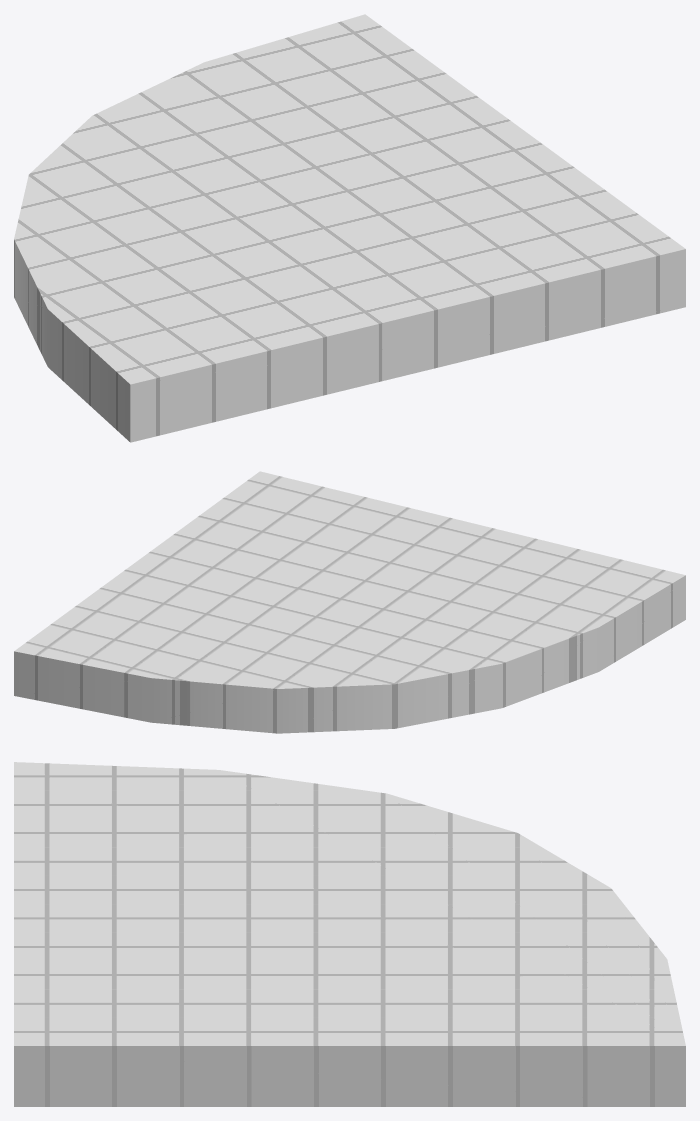
The model's file is CurvedFloor.fbx.
3 renders of one model, top to bottom at view 1: azimuth 30°, elevation 25°; view 2: azimuth 150°, elevation 25°; view 3: azimuth 270°, elevation 25°, orthographic. The views are drawn at different scales.
Parts seen in each view (by area): view 1: Curved Floor001; view 2: Curved Floor001; view 3: Curved Floor001.
Part boxes in pixels (x1,y1,x2,y2): Curved Floor001: (14,14,685,442); Curved Floor001: (14,471,685,733); Curved Floor001: (14,762,685,1106).
Bounding box in the file's own units: 78.74 × 7.87 × 78.74.
1 material, 1 textured.
